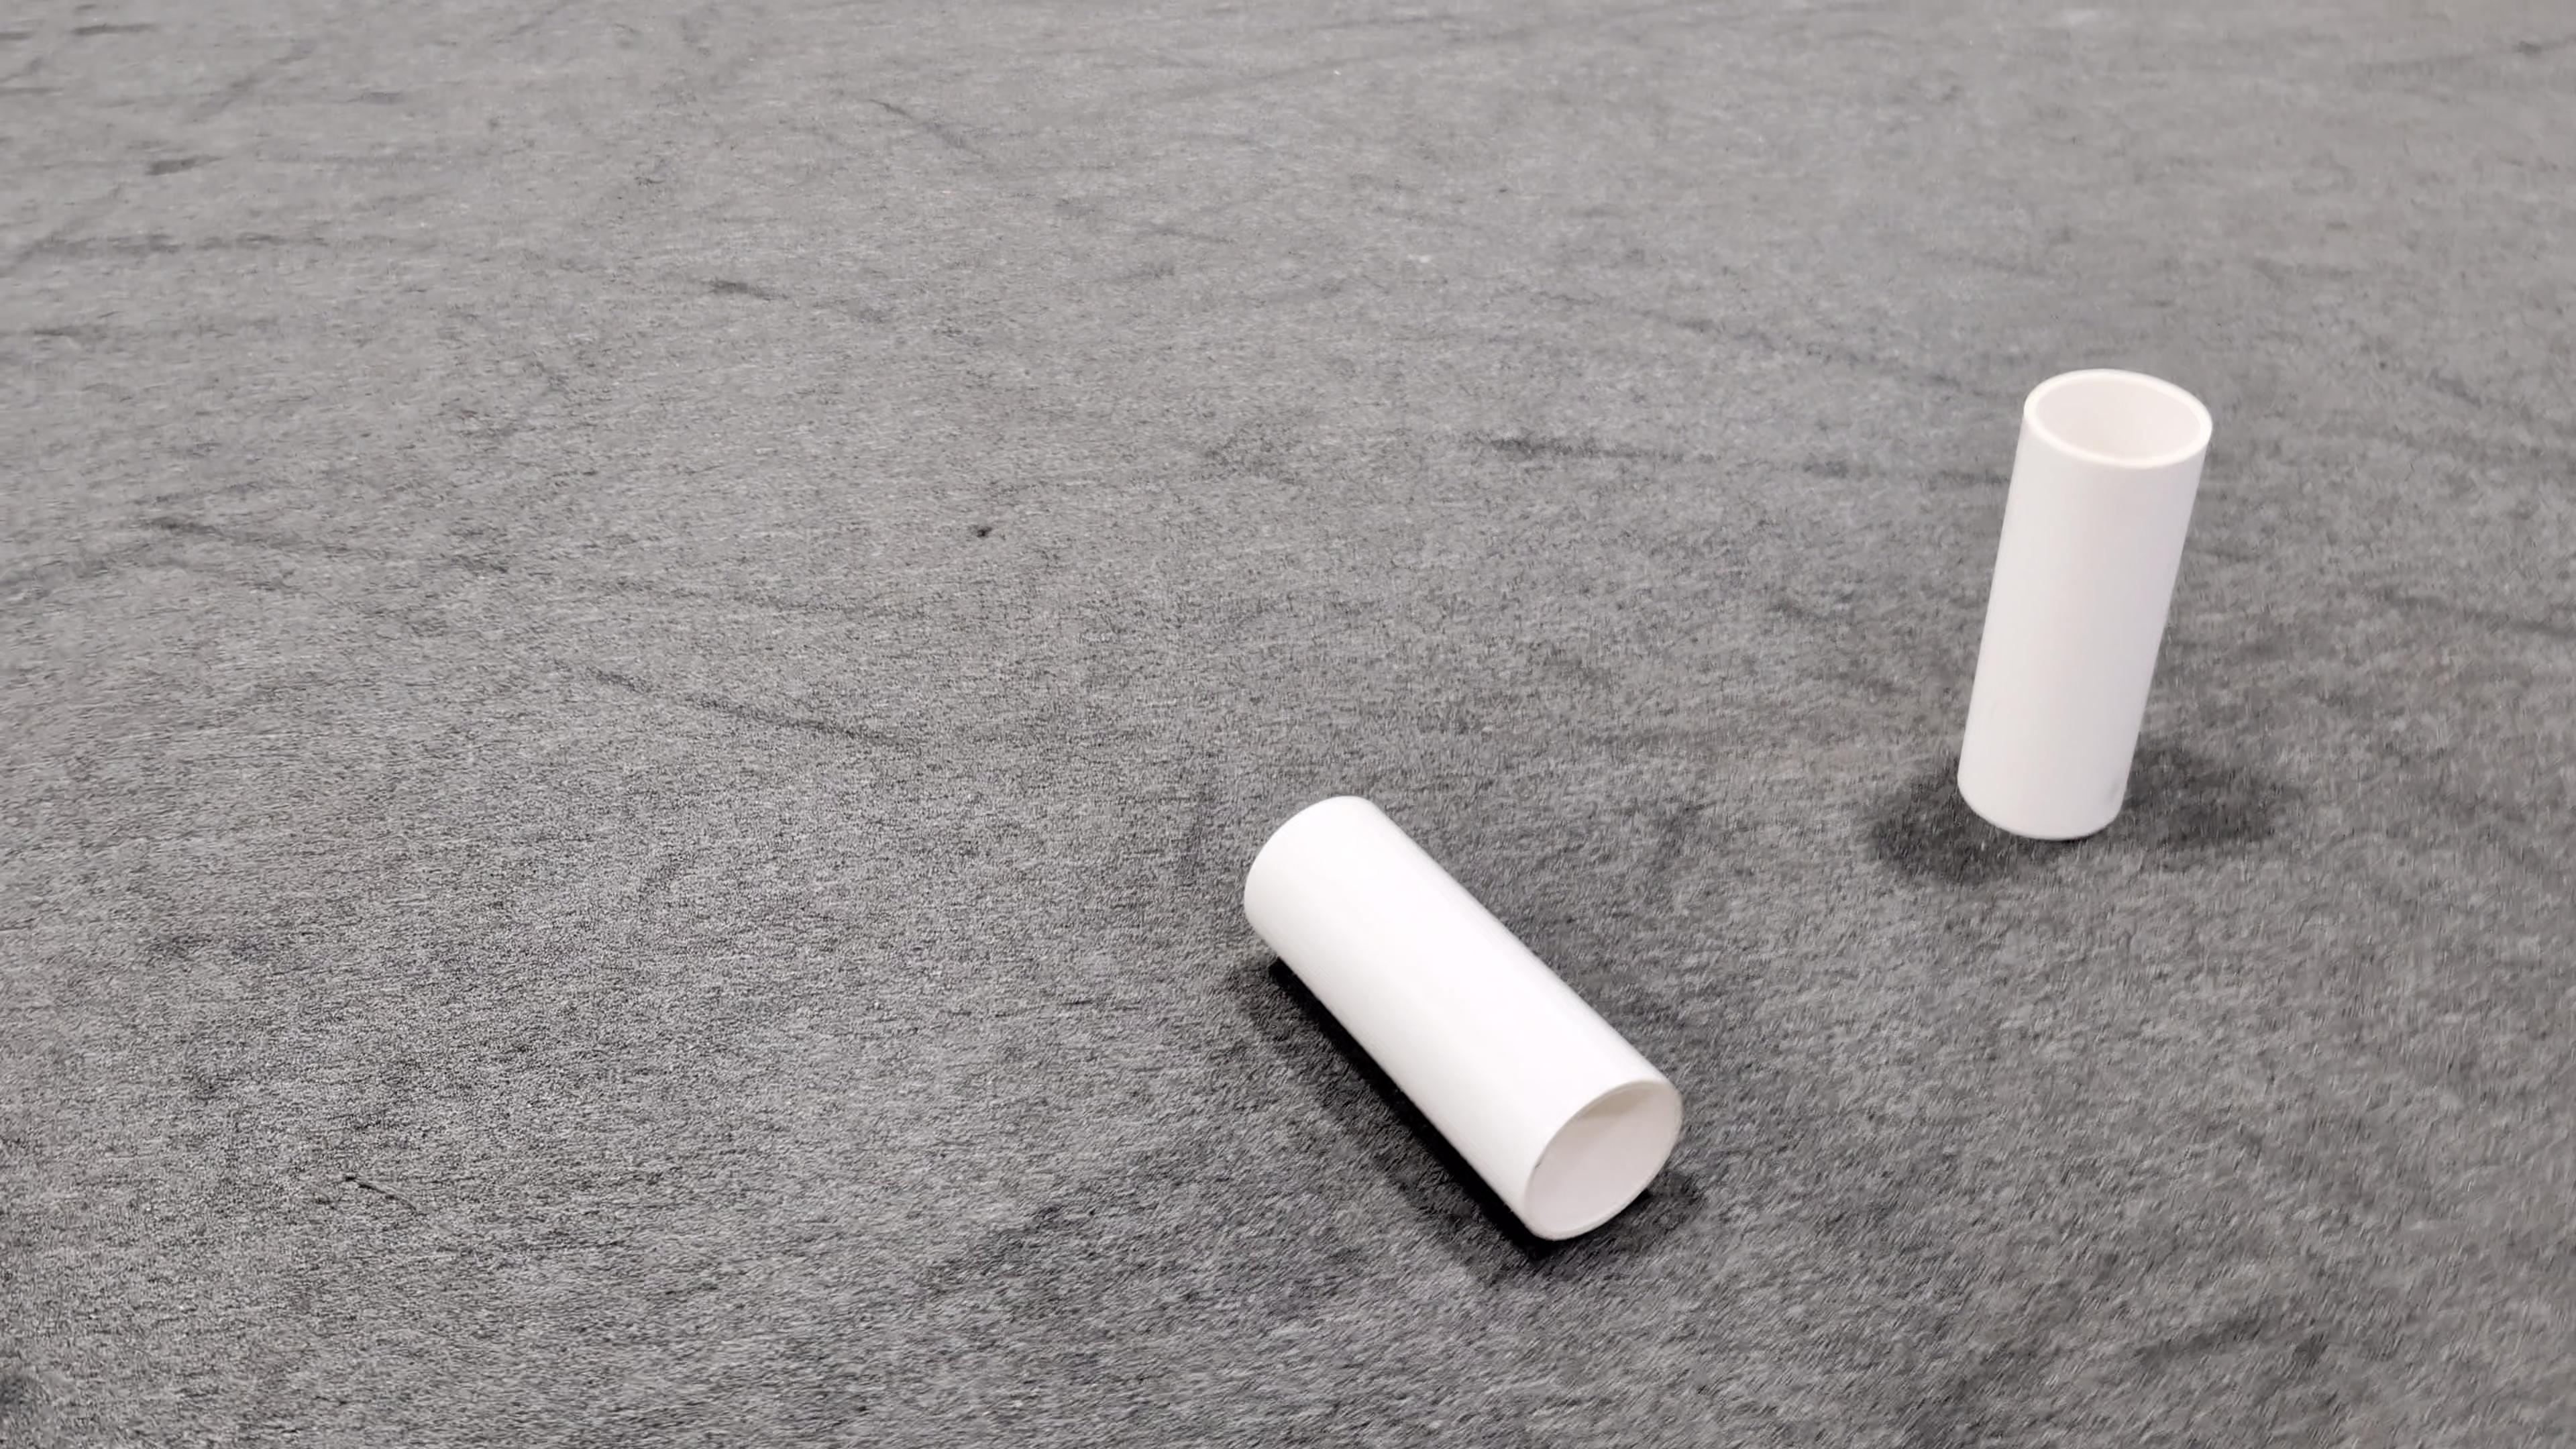coral: (1238, 791, 1684, 1242), (1955, 366, 2217, 839)
